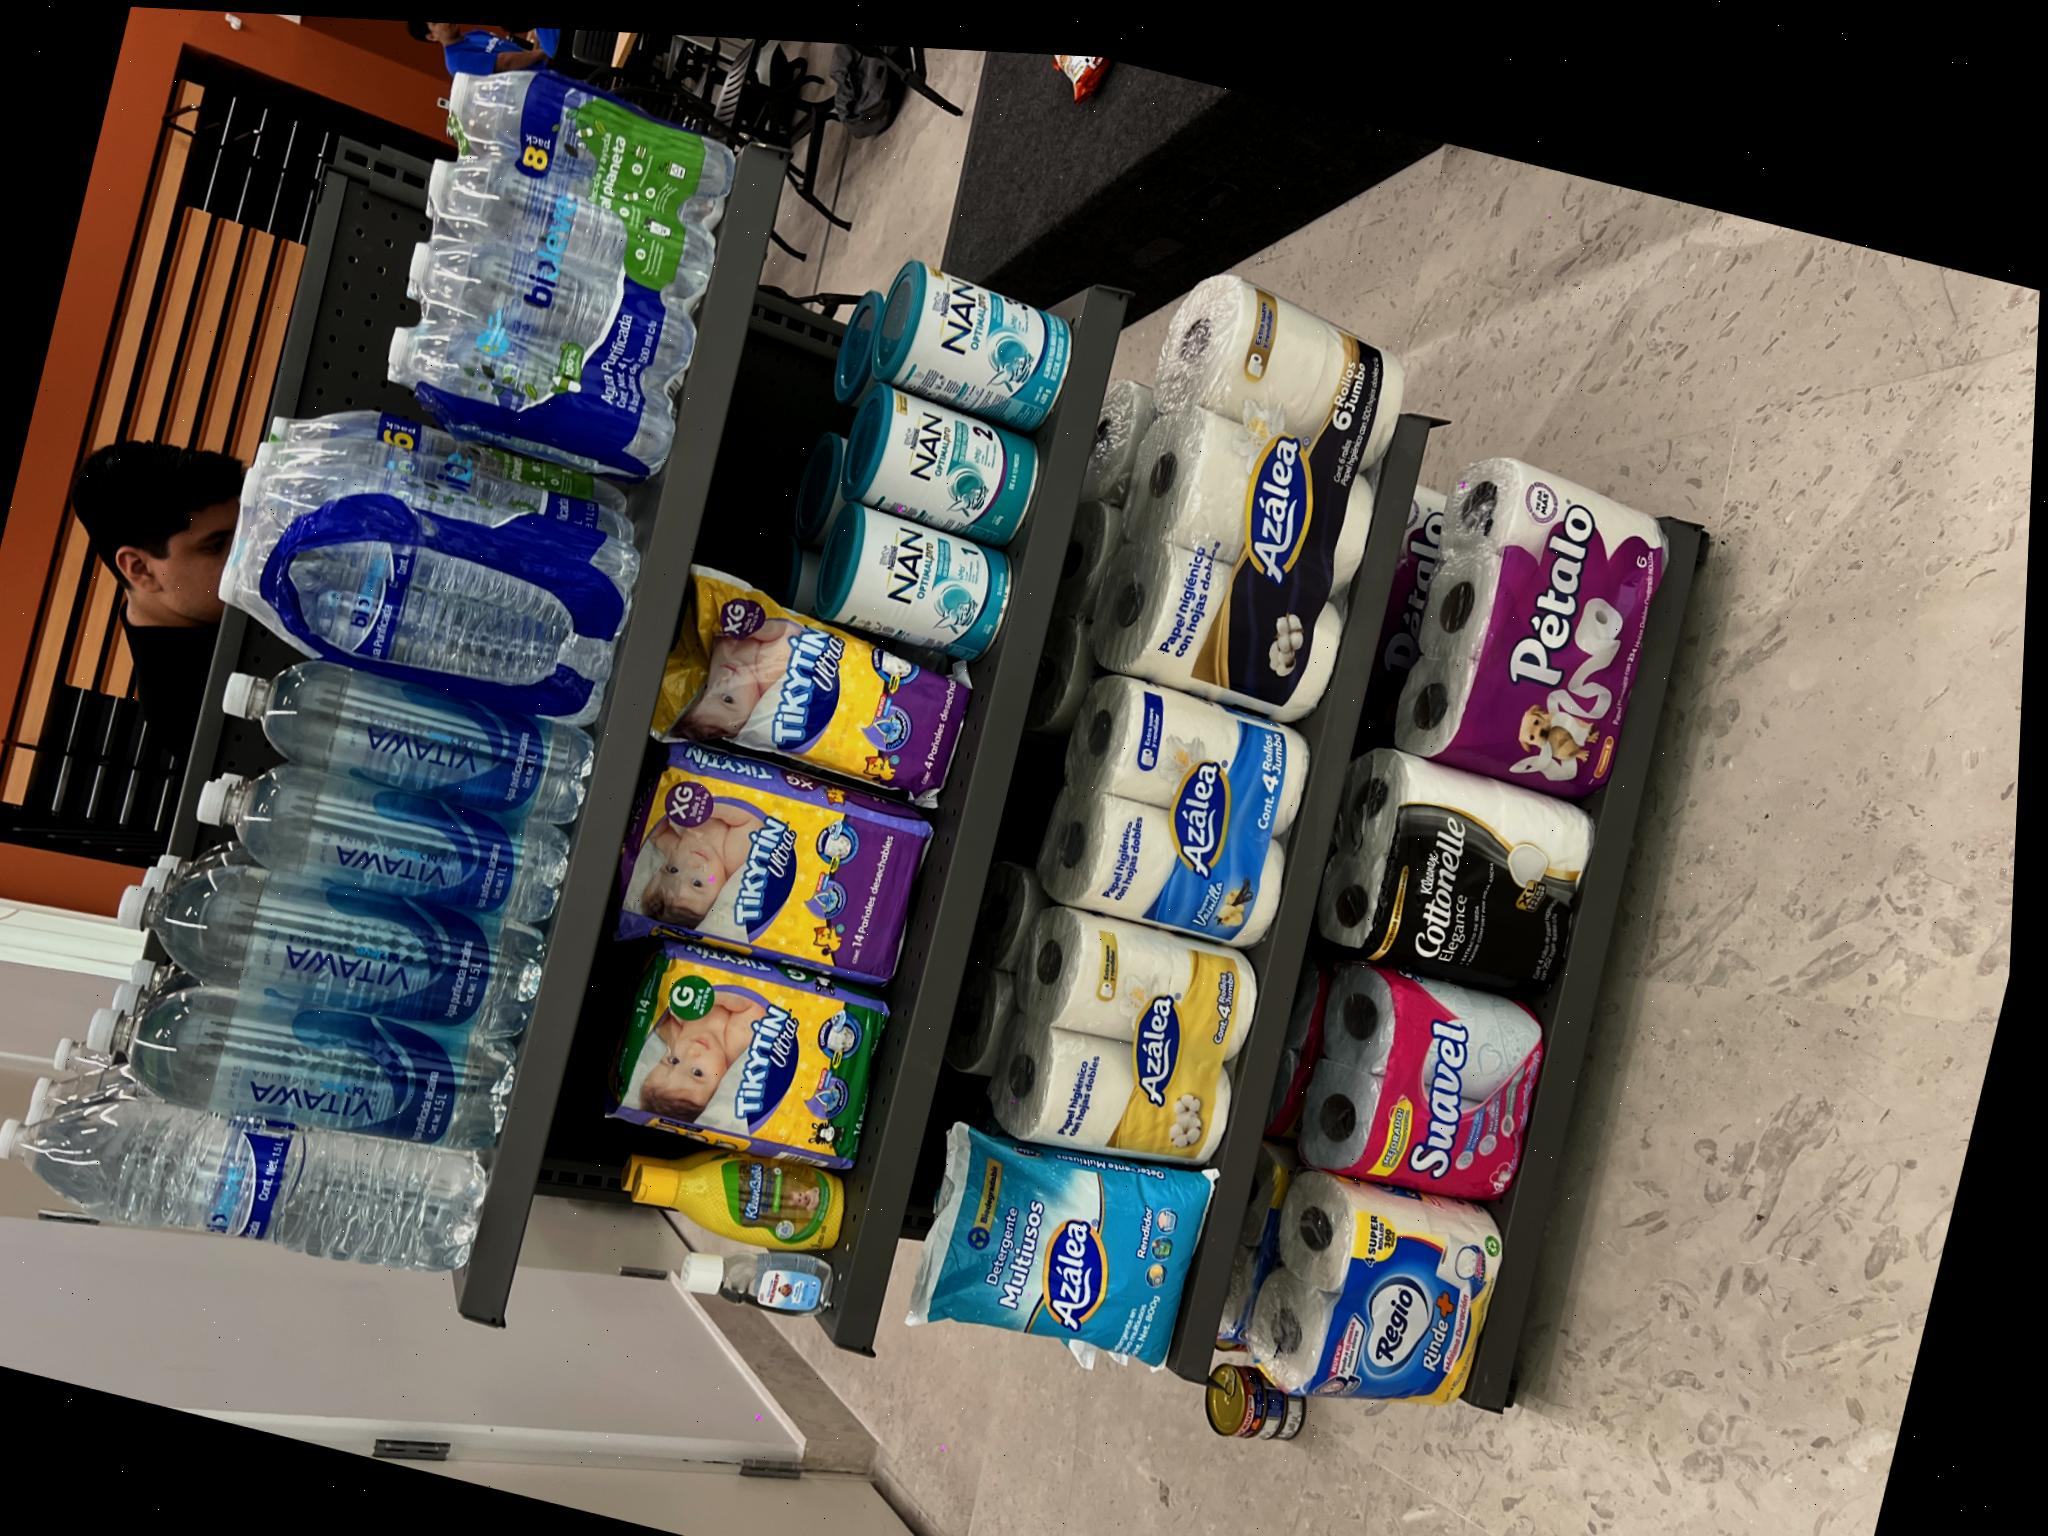aceite_bebe_mennen: (169, 686, 273, 854)
agua_bioleve: (190, 11, 434, 505)
agua_bioleve_6pack: (780, 223, 1114, 676), (1024, 390, 1434, 755)
agua_vitawa_1L: (560, 197, 750, 594), (672, 224, 861, 615)
agua_vitawa_1_5L: (324, 86, 542, 537), (448, 118, 653, 566)
detergente_azaela: (127, 931, 389, 1231)
nan_nestle_1: (847, 847, 987, 1033)
nan_nestle_2: (963, 870, 1109, 1065)
nan_nestle_3: (1082, 902, 1229, 1096)
panales_tikytin_extragrande: (508, 631, 750, 957), (695, 670, 905, 997)
panales_tikytin_grande: (331, 624, 556, 908)
papelhigenico_azaela_6rollos: (777, 1117, 1219, 1436)
papelhigenico_azaela_amarillo: (331, 1013, 597, 1279)
papelhigenico_azaela_azul: (553, 1054, 824, 1331)
papelhigenico_kleenex_cottonelle: (521, 1350, 751, 1536)
papelhigenico_petalo: (724, 1433, 1047, 1536)
papelhigenico_regio: (95, 1276, 335, 1444)
papelhigenico_suavel: (313, 1325, 543, 1496)
shampoo_bebe: (240, 634, 379, 866)
